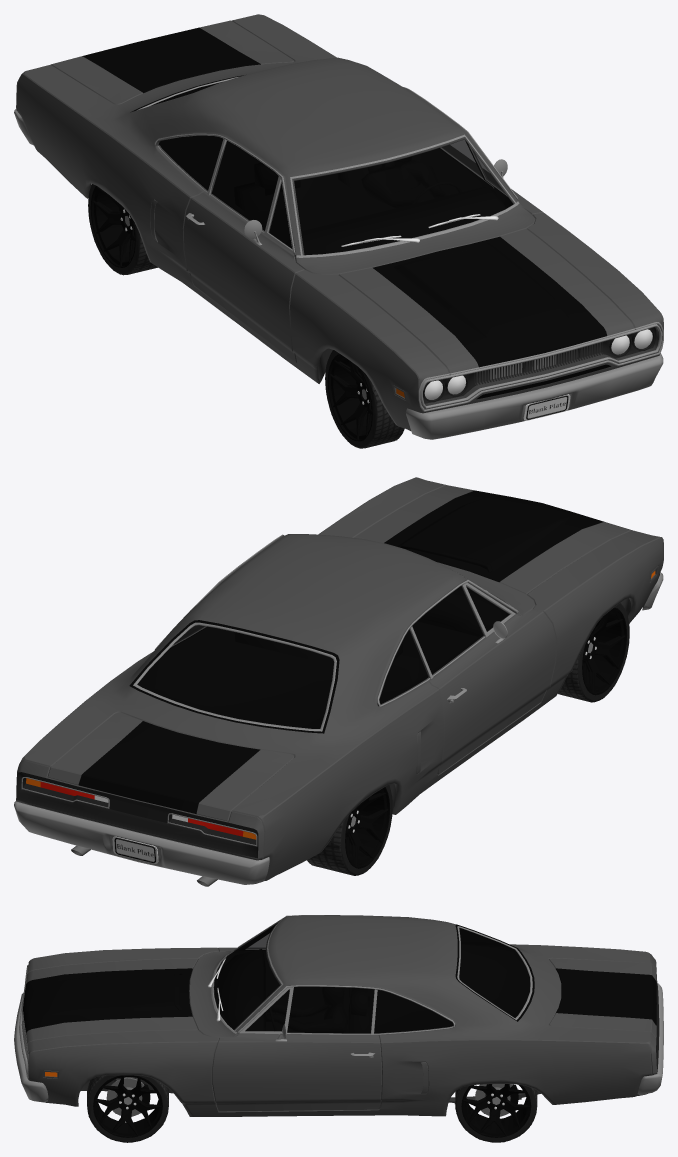
Rendered from MuscleCar.fbx.
3 views of the same model, one above another, from view 1: azimuth 30°, elevation 25°; view 2: azimuth 150°, elevation 25°; view 3: azimuth 270°, elevation 25° (orthographic). The views are drawn at different scales.
Parts seen in each view (by area): view 1: MuscleCar, D_FRWheel, D_FRWheel_LOD, Generic_Ped, D_RRWheel_LOD, D_RRWheel, D_Plates, D_Extras; view 2: MuscleCar, D_FRWheel_LOD, D_RRWheel_LOD, D_RRWheel, D_FRWheel, D_Plates; view 3: MuscleCar, D_FLWheel_LOD, D_FLWheel, D_RLWheel_LOD, D_RLWheel, Generic_Ped.
Boxes of the visible parts, x1,y1,x2,y2 form: MuscleCar: [14, 14, 663, 439]; D_FRWheel: [325, 350, 404, 448]; D_FRWheel_LOD: [325, 350, 401, 448]; Generic_Ped: [361, 156, 450, 208]; D_RRWheel_LOD: [88, 184, 157, 274]; D_RRWheel: [88, 185, 157, 275]; D_Plates: [523, 394, 570, 420]; D_Extras: [341, 182, 498, 246]; MuscleCar: [14, 477, 663, 886]; D_FRWheel_LOD: [558, 603, 629, 702]; D_RRWheel_LOD: [310, 785, 392, 875]; D_RRWheel: [307, 787, 392, 875]; D_FRWheel: [558, 603, 629, 702]; D_Plates: [112, 836, 158, 863]; MuscleCar: [14, 915, 663, 1116]; D_FLWheel_LOD: [87, 1075, 168, 1142]; D_FLWheel: [87, 1075, 168, 1142]; D_RLWheel_LOD: [455, 1084, 537, 1142]; D_RLWheel: [455, 1084, 537, 1142]; Generic_Ped: [264, 987, 347, 1033].
Size of what is drawn, in the model's own units: 194 by 135 by 519.
